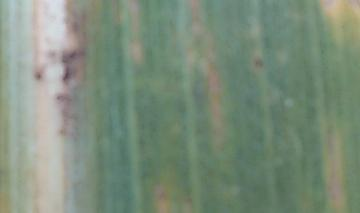tarspot: (53, 90, 71, 139), (58, 49, 81, 87), (62, 1, 78, 24), (41, 45, 60, 64), (31, 67, 46, 85), (70, 19, 80, 37), (252, 56, 264, 69), (156, 190, 167, 200)
